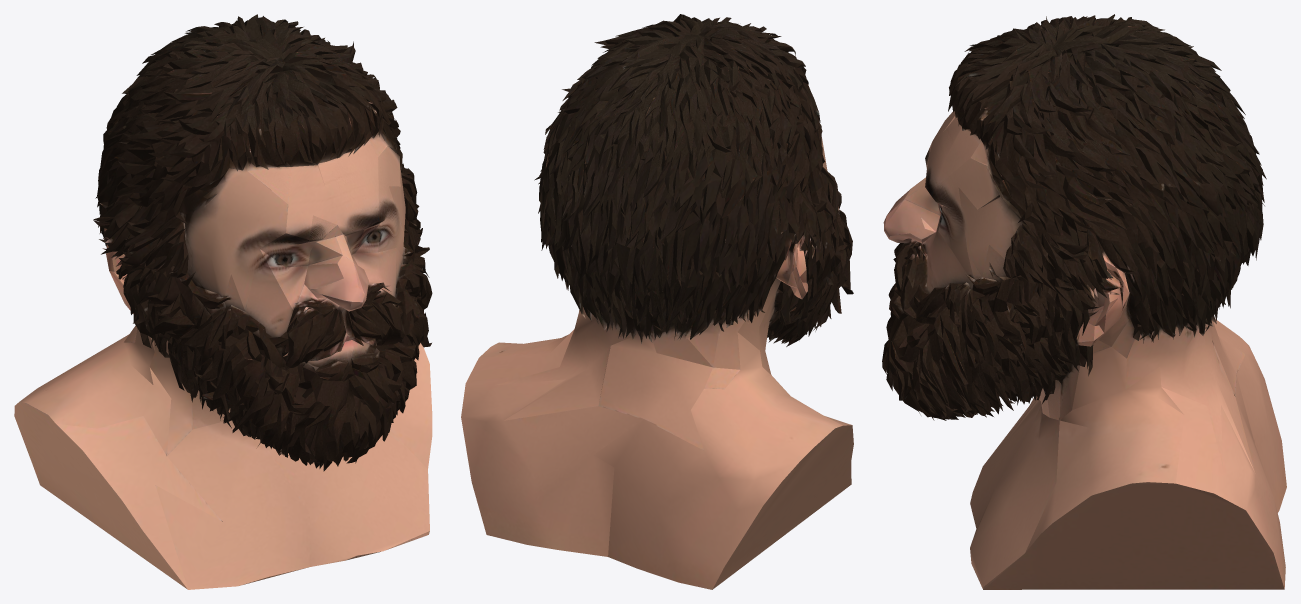
Rendered from beard_test.glb.
The picture shows the model from 3 angles, left to right: view 1: azimuth 30°, elevation 25°; view 2: azimuth 150°, elevation 25°; view 3: azimuth 270°, elevation 25°; orthographic projection. The views are drawn at different scales.
Bounding box in the file's own units: 1.48 × 1.9 × 1.4.
Materials: 1 (1 with a texture image).
